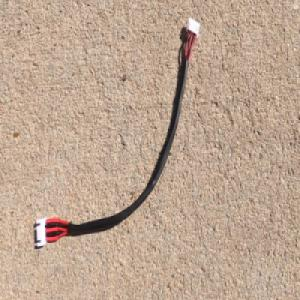Wire: (35, 14, 203, 248)
